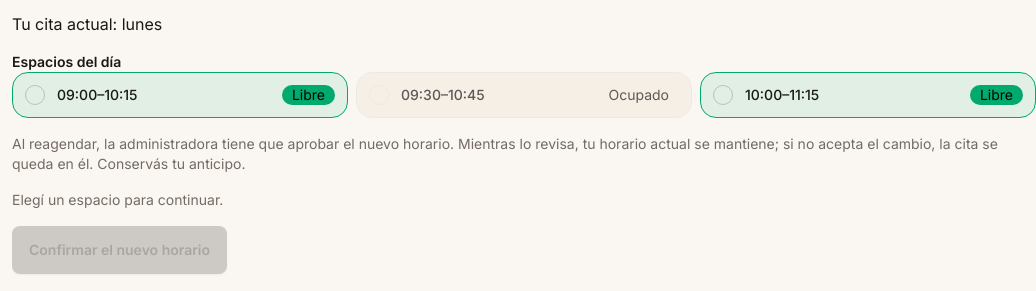
it: RescheduleForm › mientras envía no deja confirmar dos veces
The image size is (1036, 291).
What coordinates should you click on to do the following:
click the radio button labelled "09:00–10:15 Libre"
I would click on:
 (35, 95)
Its box is left=25, top=85, right=45, bottom=105.
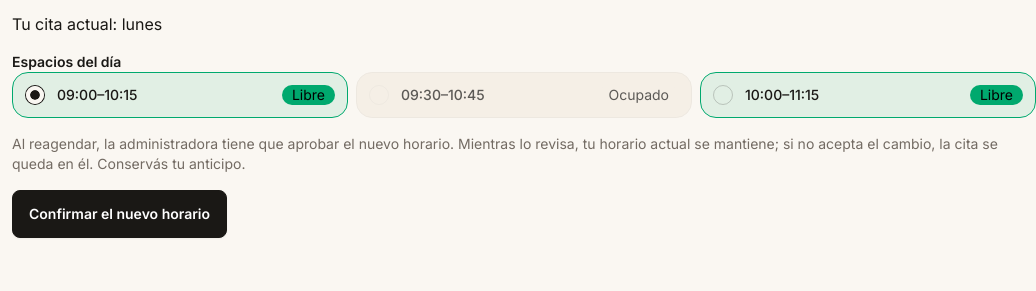
What coordinates should you click on to do the following:
click the button "Confirmar el nuevo horario"
I would click on:
 (120, 214)
Its box is left=12, top=190, right=227, bottom=238.
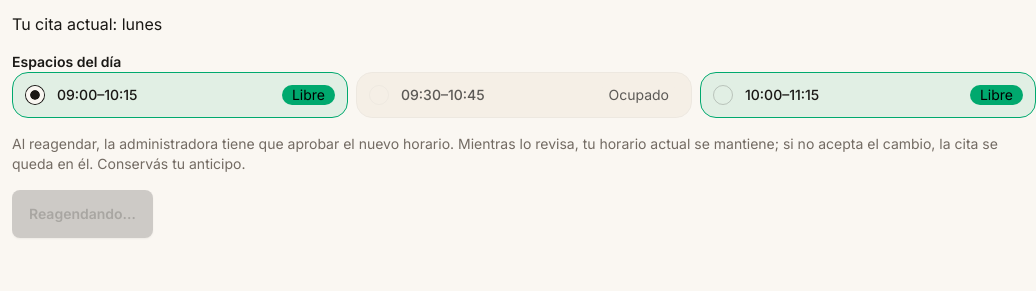
expect the button "Reagendando…" is disabled: met, box left=12, top=190, right=153, bottom=238
